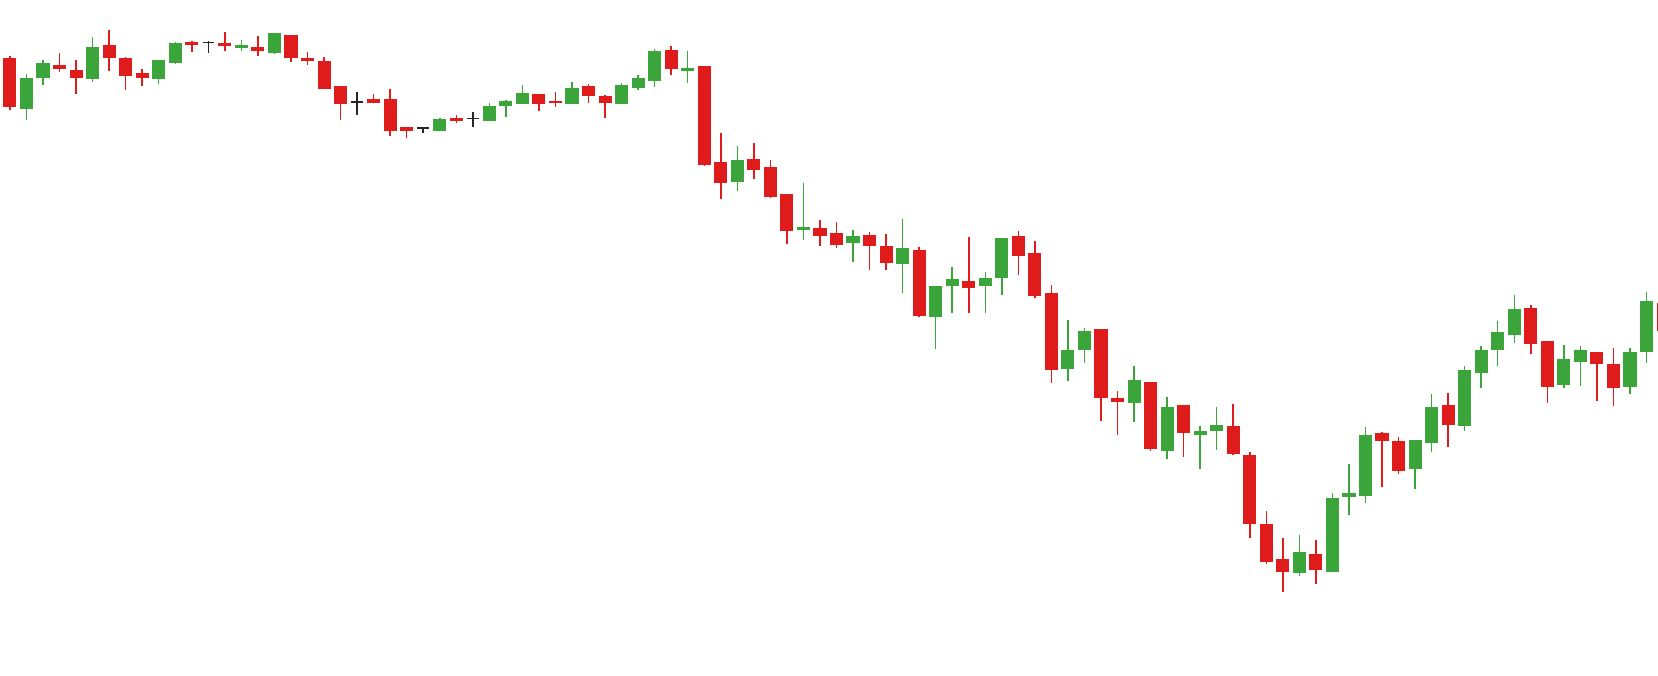sell: (965, 232, 1030, 291)
